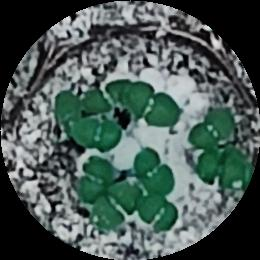Basil: (125, 85, 182, 133), (194, 145, 252, 188), (193, 105, 239, 151), (72, 159, 117, 206), (82, 72, 135, 111), (49, 93, 89, 143), (134, 150, 176, 196), (69, 118, 119, 156), (93, 182, 135, 226), (139, 197, 177, 229)
